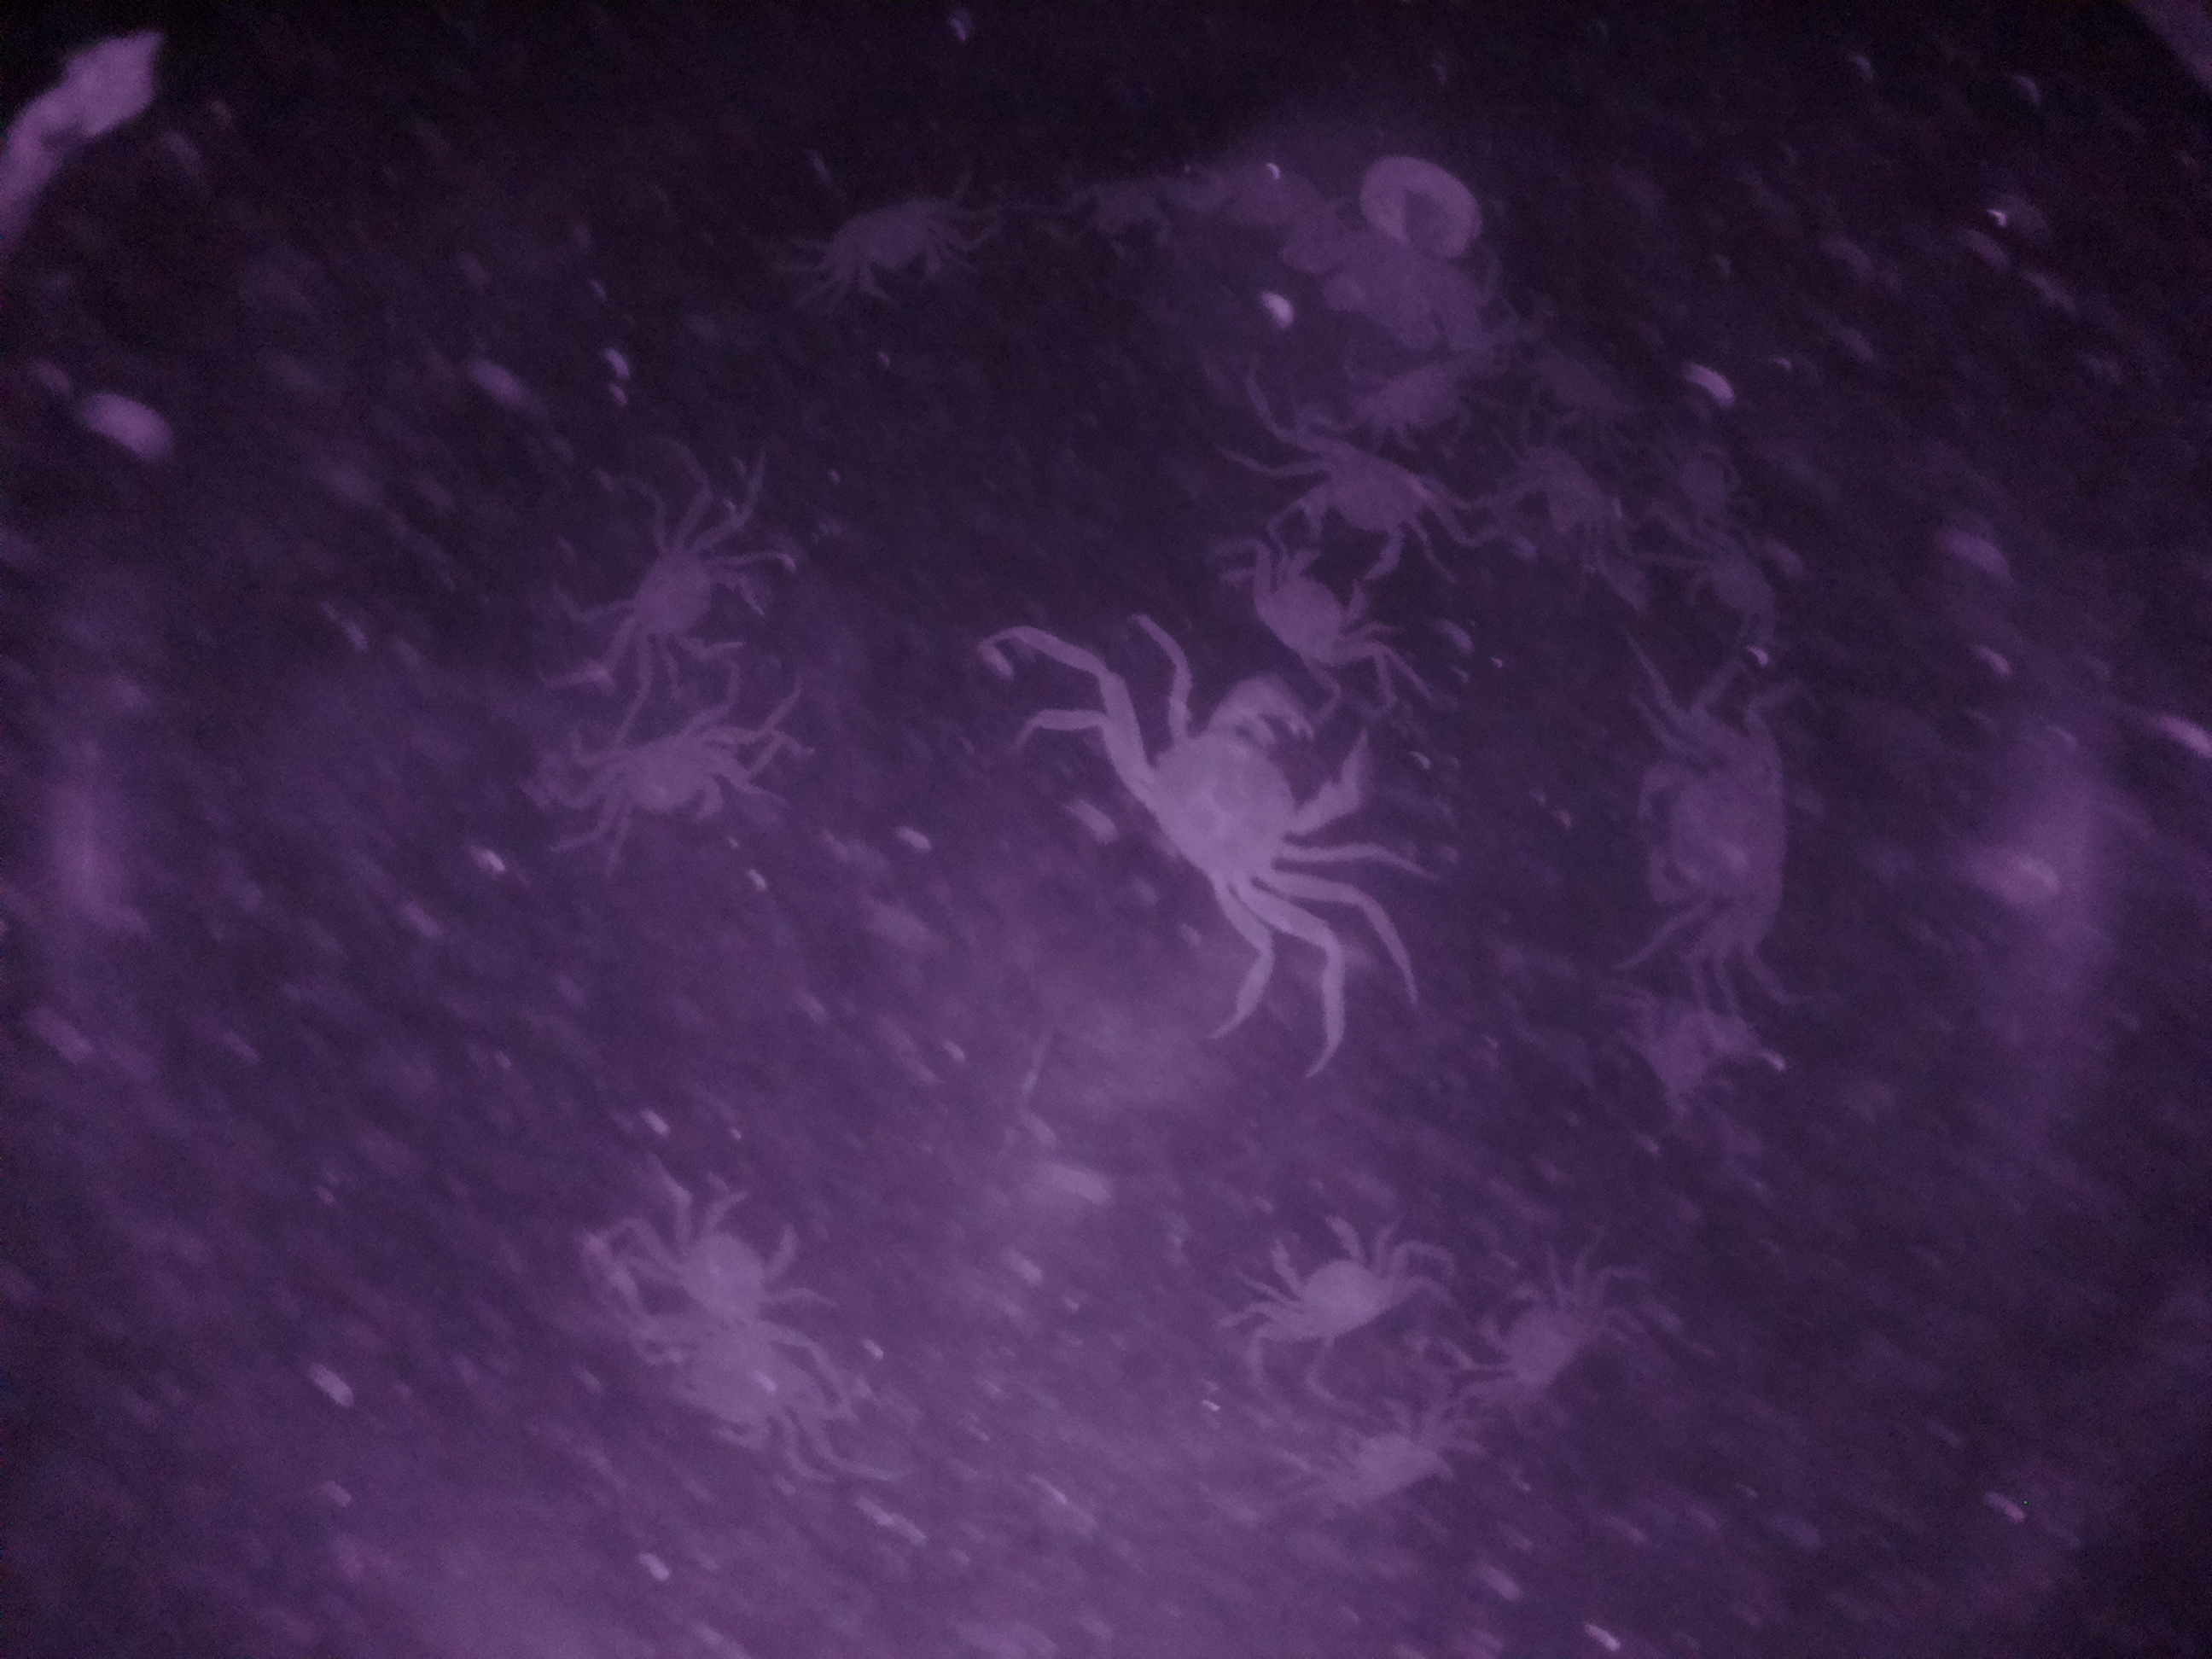Crab: (1101, 680, 1390, 946), (1629, 711, 1815, 971), (603, 509, 786, 694), (573, 711, 772, 859), (1268, 420, 1451, 573), (1244, 1206, 1411, 1366), (1458, 1260, 1613, 1417), (827, 188, 977, 324), (1249, 542, 1392, 681)
